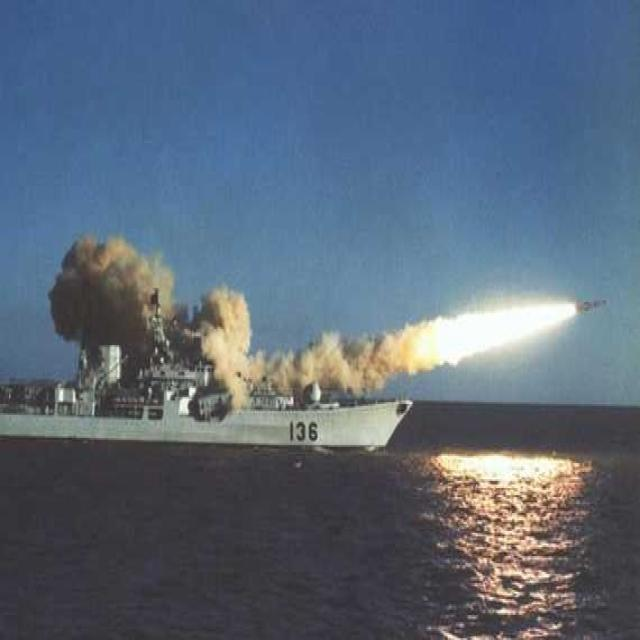missile: (573, 287, 608, 322)
